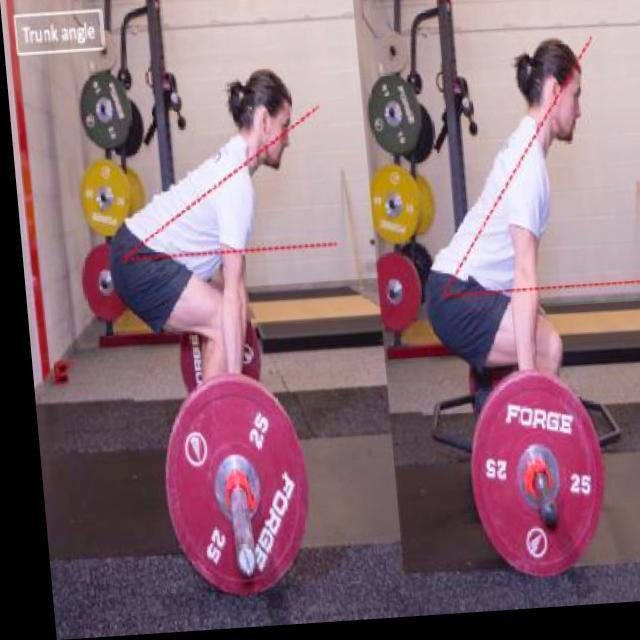barbell: (146, 372, 314, 612), (447, 373, 611, 595)
